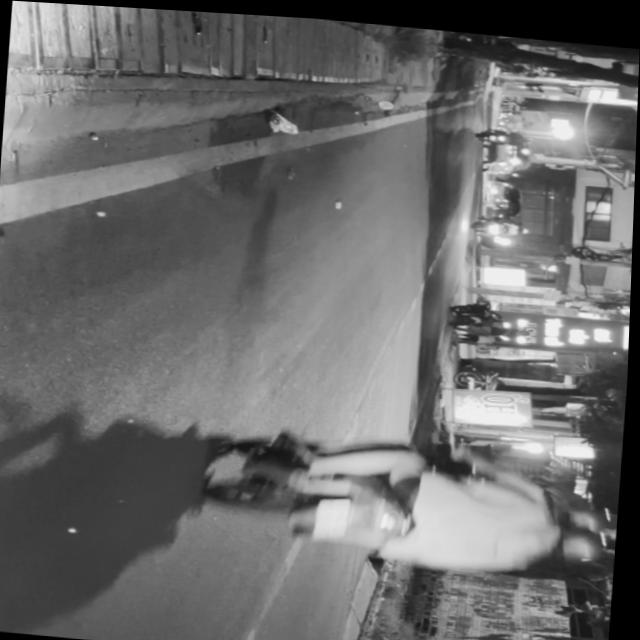helmet: (551, 489, 618, 528), (550, 518, 610, 558)
licenseplate: (195, 416, 625, 583)
nohelmet: (320, 494, 356, 536)
